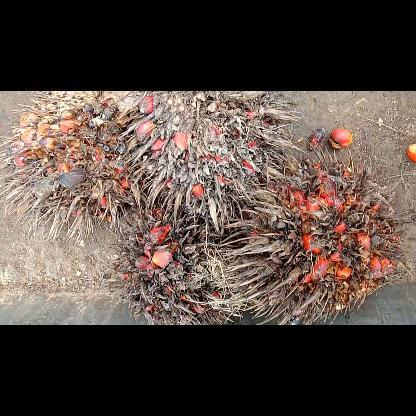Terlalu masak: (220, 144, 408, 324), (115, 90, 306, 233), (0, 91, 147, 252), (108, 196, 252, 324)
